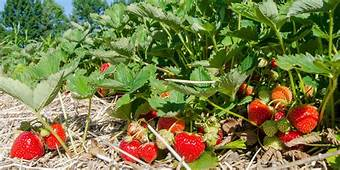Fresa: (8, 128, 46, 161), (173, 129, 207, 165), (290, 101, 321, 135), (244, 97, 274, 127), (136, 140, 163, 165)
